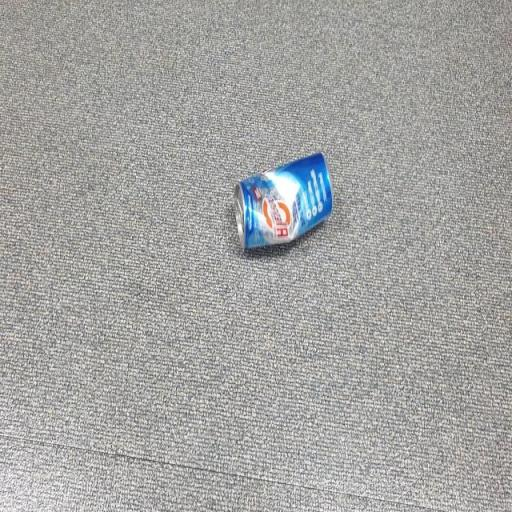metal: (230, 140, 344, 262)
